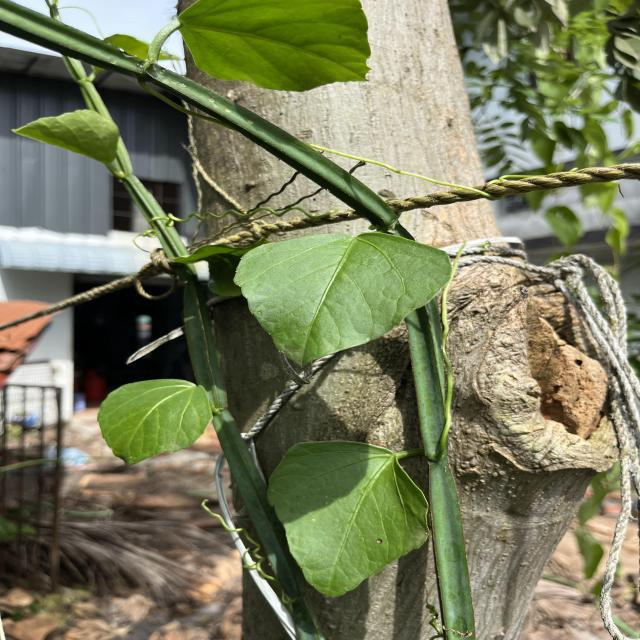Cissus quadrangularis: (230, 228, 455, 371), (263, 436, 433, 601)
